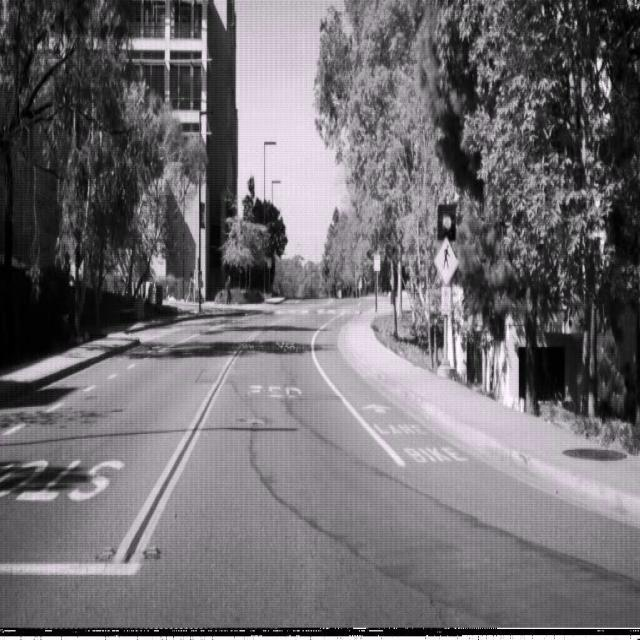pedestrianCrossing: (434, 235, 458, 286)
